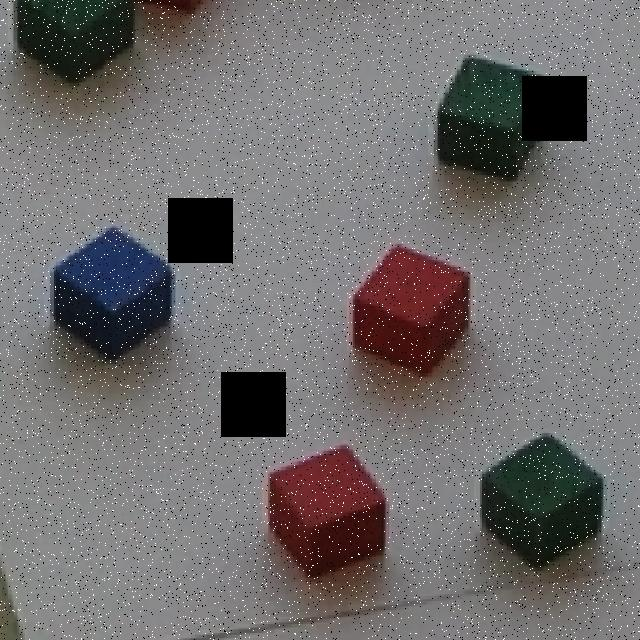bluecube: (51, 225, 172, 366)
green cube: (473, 433, 604, 570), (436, 59, 549, 181), (10, 0, 136, 91)
red cube: (266, 439, 383, 581), (349, 243, 469, 375)
